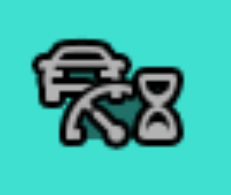ACC_WAITING: (22, 28, 191, 152)
